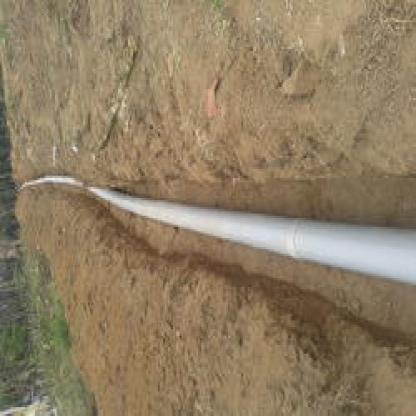PVC: (21, 174, 414, 285)
